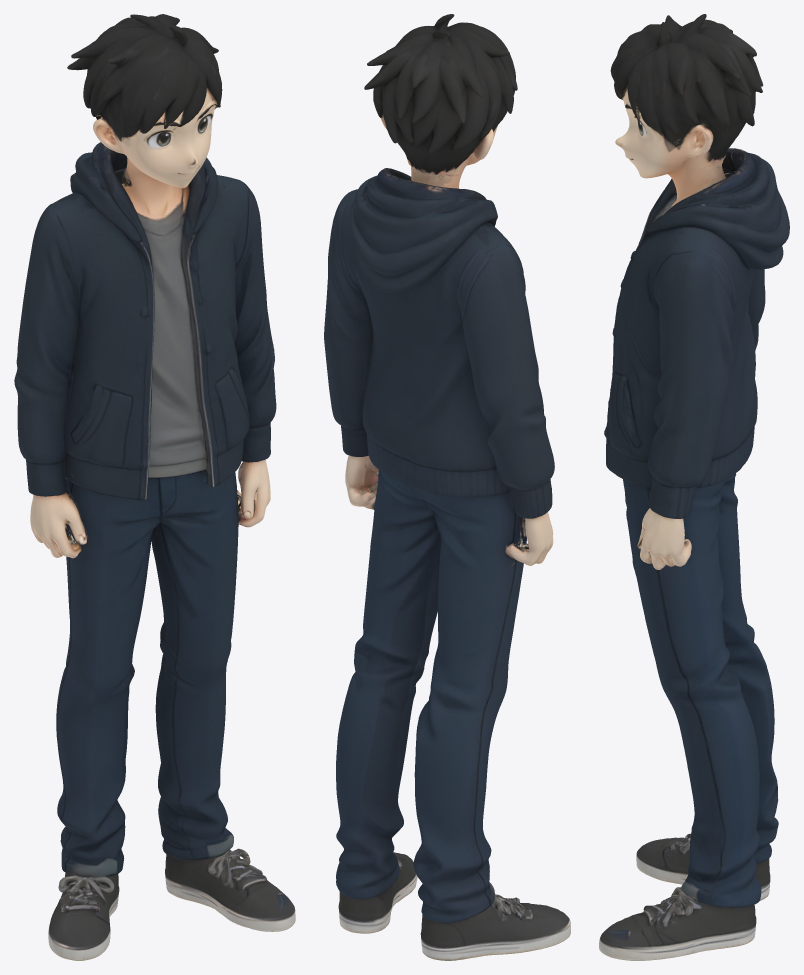
The model's file is friendly_anime_boy.glb.
3 renders of one model, left to right at view 1: azimuth 30°, elevation 25°; view 2: azimuth 150°, elevation 25°; view 3: azimuth 270°, elevation 25°, orthographic.
Visible parts, largest first — view 1: Object_4, Object_5, Object_6; view 2: Object_4, Object_6, Object_5; view 3: Object_4, Object_5, Object_6.
Boxes of the visible parts, x1=… form: Object_4: x1=14, y1=15, x2=276, y2=926; Object_5: x1=26, y1=14, x2=295, y2=960; Object_6: x1=14, y1=14, x2=274, y2=956; Object_4: x1=324, y1=22, x2=554, y2=960; Object_6: x1=324, y1=14, x2=566, y2=958; Object_5: x1=324, y1=22, x2=570, y2=955; Object_4: x1=604, y1=21, x2=782, y2=948; Object_5: x1=599, y1=15, x2=770, y2=960; Object_6: x1=640, y1=14, x2=789, y2=960.
Size of the model in its own units: 0.5144 by 1.9 by 0.3707.
1 material, 1 textured.
